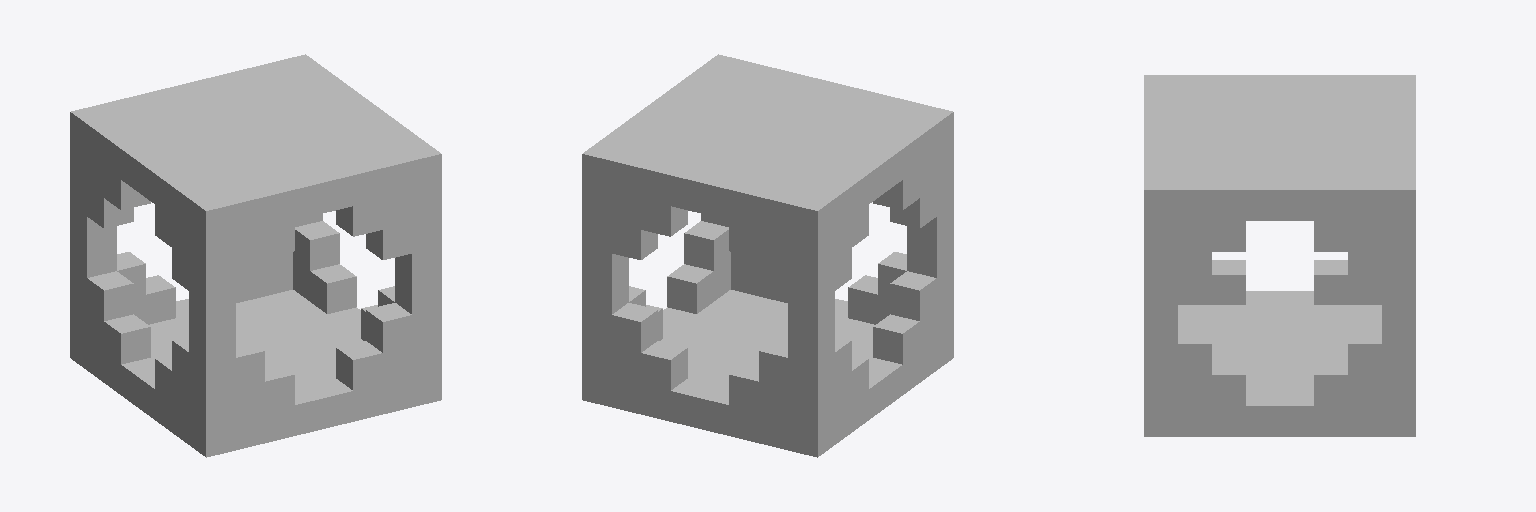
The model's file is obstacle.obj.
3 views of the same model, side by side, from view 1: azimuth 30°, elevation 25°; view 2: azimuth 150°, elevation 25°; view 3: azimuth 270°, elevation 25° (orthographic).
Bounding box in the file's own units: 8 × 8 × 8.